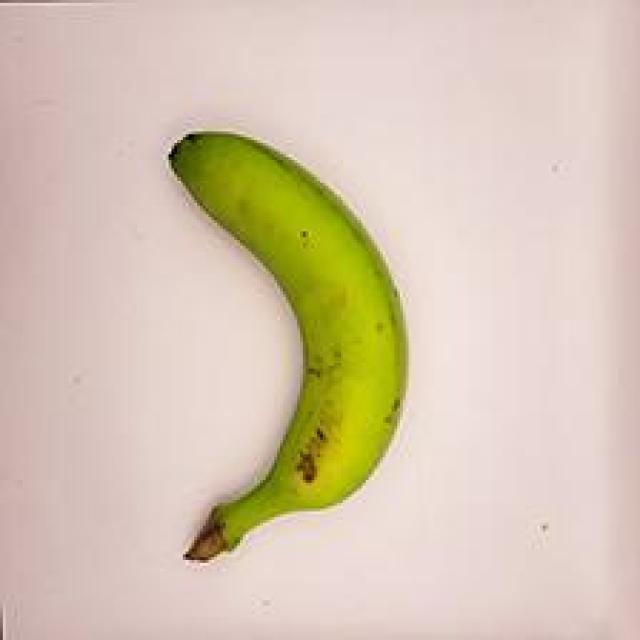unripe: (118, 107, 444, 594)
